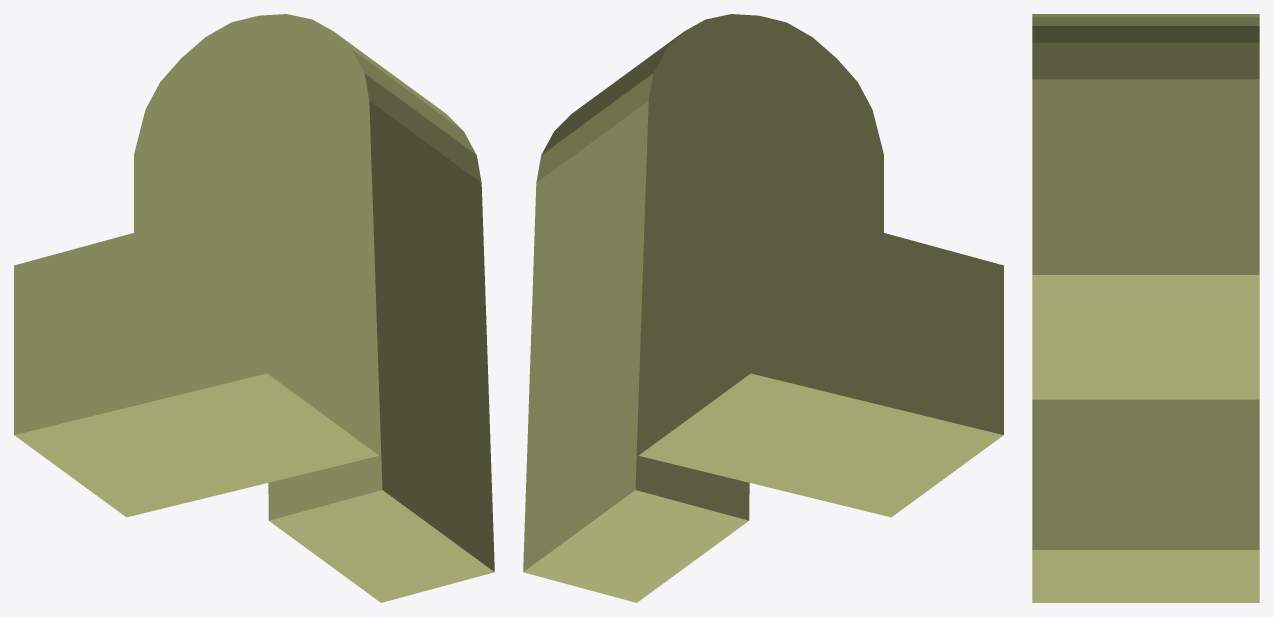
3 renders of one model, left to right at view 1: azimuth 30°, elevation 25°; view 2: azimuth 150°, elevation 25°; view 3: azimuth 270°, elevation 25°, orthographic.
Parts seen in each view (by area): view 1: 0_0_1_2_0_0_1_0_2_1; view 2: 0_0_1_2_0_0_1_0_2_1; view 3: 0_0_1_2_0_0_1_0_2_1.
Part boxes in pixels (x1,y1,x2,y2): 0_0_1_2_0_0_1_0_2_1: (14, 14, 494, 602); 0_0_1_2_0_0_1_0_2_1: (523, 14, 1003, 602); 0_0_1_2_0_0_1_0_2_1: (1032, 14, 1259, 602).
Bounding box in the file's own units: 11.35 × 14.95 × 6.
